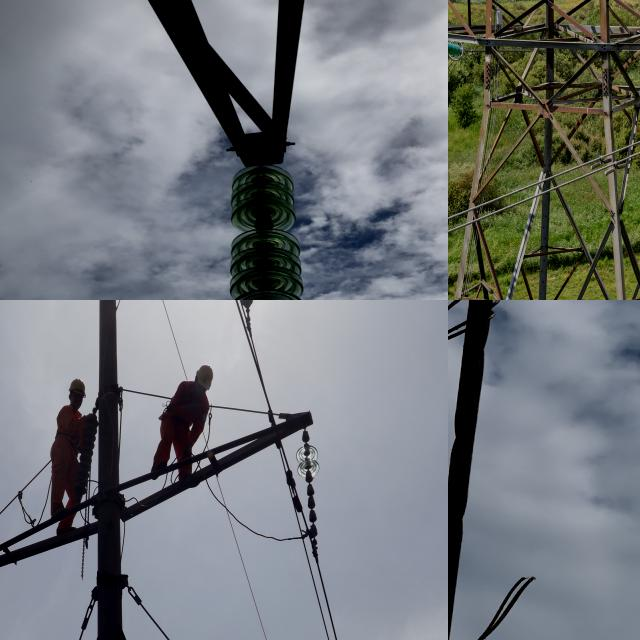杆塔: (0, 300, 323, 640), (448, 0, 640, 300)
正常电缆: (448, 131, 640, 236)
正常绝缘子: (216, 145, 317, 300), (292, 423, 328, 558)
电缆破损: (448, 547, 561, 640)
绝缘子破损: (251, 218, 275, 227), (308, 514, 318, 530), (307, 500, 317, 514), (305, 473, 314, 488), (306, 488, 316, 500)
